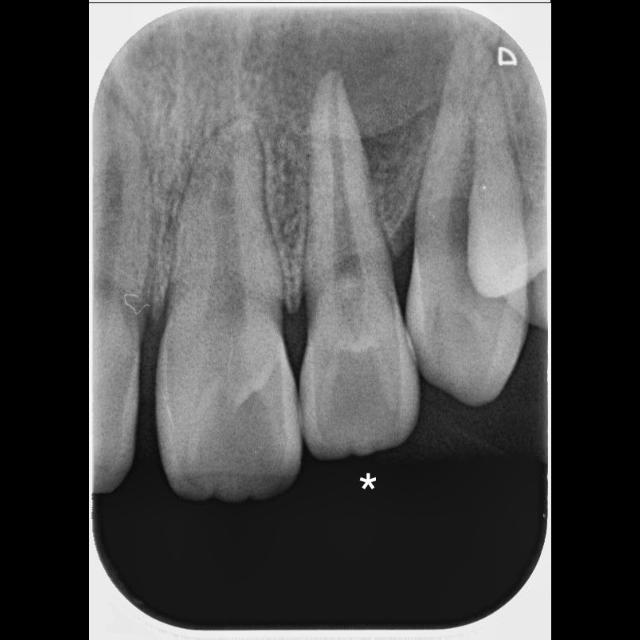test-segment: (300, 76, 416, 457)
